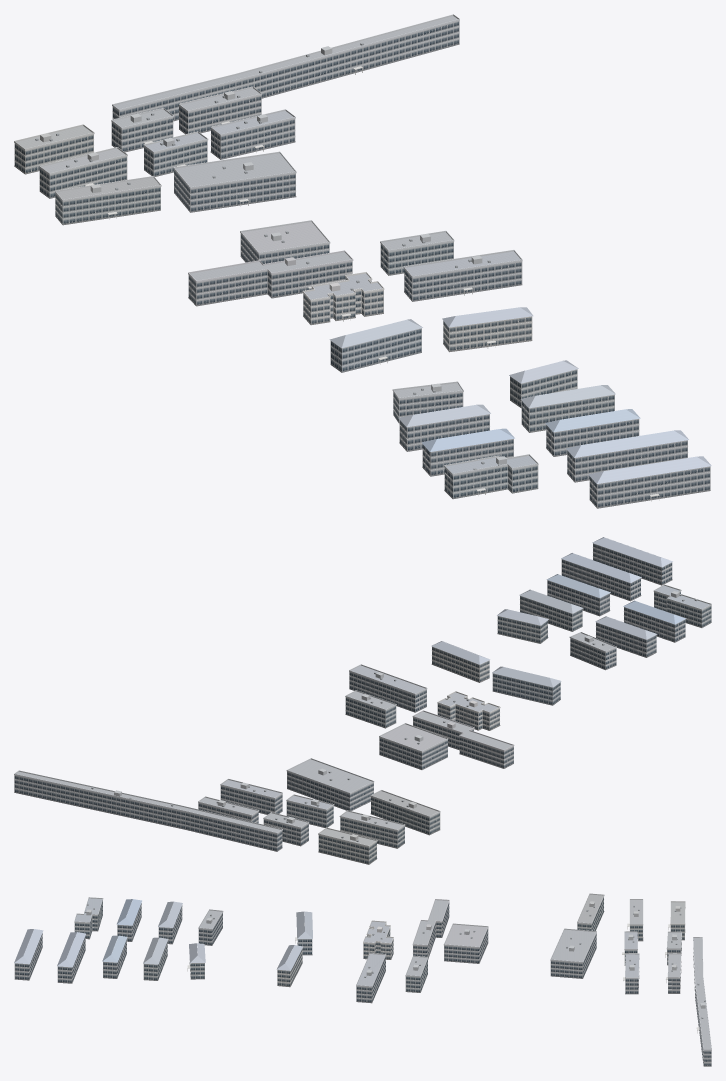
3 views of the same model, one above another, from view 1: azimuth 30°, elevation 25°; view 2: azimuth 150°, elevation 25°; view 3: azimuth 270°, elevation 25° (orthographic). The views are drawn at different scales.
Parts seen in each view (by area): view 1: 1423831541, 1503263416, 1416976463, 1503263383, 1503263412, 1416956759, 1503263384, 1503263385, 1503263407, 1503263406, 1503263409, 1416956757 (+13 smaller); view 2: 1423831541, 1416976463, 1503263416, 1424986302, 1503263383, 1503263412, 1503263384, 1416956759, 1503263407, 1503263409, 1503263389, 1503263386 (+13 smaller); view 3: 1416976463, 1424986302, 1423831541, 1503263416, 1503263412, 1503263384, 1503263383, 1503263409, 1503263389, 1503263386, 1503263385, 1503263406 (+13 smaller).
Part boxes in pixels (x1,y1,x2,y2): 1423831541: [112, 14, 459, 121]; 1503263416: [188, 250, 353, 306]; 1416976463: [173, 151, 296, 212]; 1503263383: [588, 456, 711, 508]; 1503263412: [403, 249, 522, 301]; 1416956759: [55, 176, 161, 225]; 1503263384: [566, 430, 688, 482]; 1503263385: [444, 454, 538, 499]; 1503263407: [329, 319, 422, 372]; 1503263406: [442, 307, 533, 352]; 1503263409: [302, 272, 384, 325]; 1416956757: [210, 109, 295, 159]; 1423831541: [14, 770, 282, 851]; 1416976463: [286, 758, 374, 810]; 1503263416: [412, 710, 514, 768]; 1424986302: [379, 723, 448, 769]; 1503263383: [592, 537, 672, 585]; 1503263412: [349, 664, 427, 712]; 1503263384: [561, 553, 641, 601]; 1416956759: [370, 790, 440, 835]; 1503263407: [492, 666, 561, 705]; 1503263409: [437, 691, 500, 730]; 1503263389: [519, 589, 583, 631]; 1503263386: [546, 574, 610, 616]; 1416976463: [550, 928, 596, 978]; 1424986302: [443, 923, 488, 963]; 1423831541: [693, 937, 711, 1066]; 1503263416: [412, 899, 449, 959]; 1503263412: [356, 953, 386, 1003]; 1503263384: [57, 932, 85, 983]; 1503263383: [14, 929, 43, 980]; 1503263409: [363, 920, 393, 959]; 1503263389: [143, 937, 168, 980]; 1503263386: [102, 935, 127, 978]; 1503263385: [74, 897, 103, 939]; 1503263406: [276, 945, 303, 987].
Bounding box in the file's own units: 314 × 19.67 × 593.
4 materials, 3 textured.
